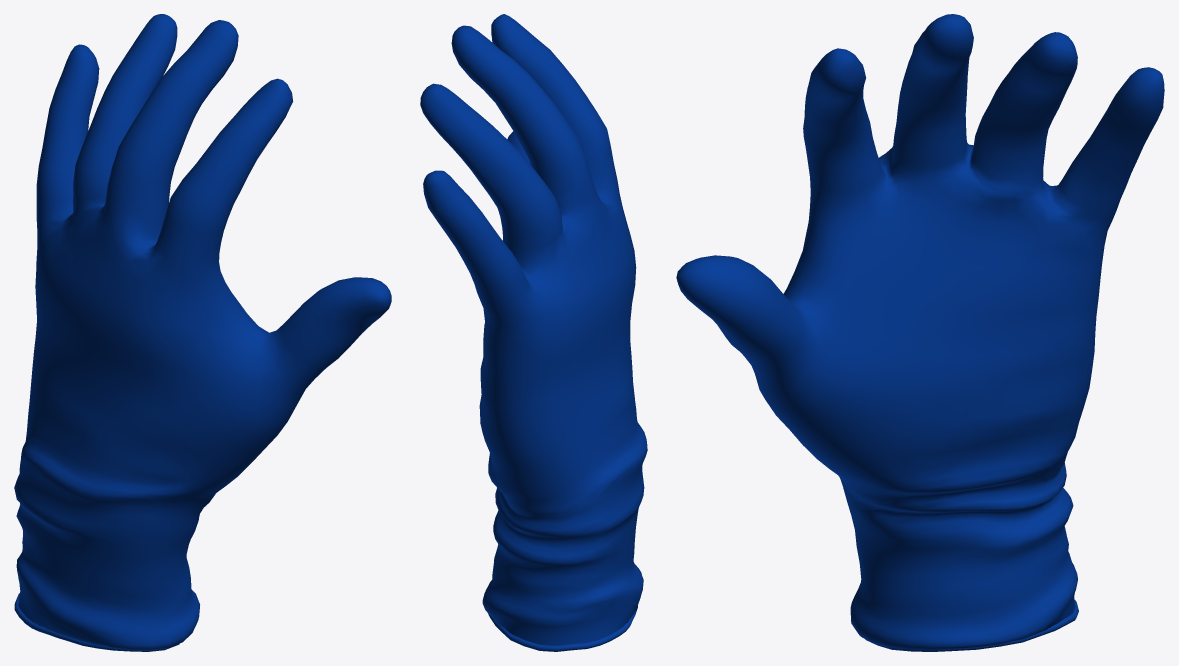
The model's file is FR Medical gloves.FBX.
3 views of the same model, side by side, from view 1: azimuth 30°, elevation 25°; view 2: azimuth 150°, elevation 25°; view 3: azimuth 270°, elevation 25° (orthographic). The views are drawn at different scales.
Size of the model in its own units: 9.45 by 21.71 by 14.33.
